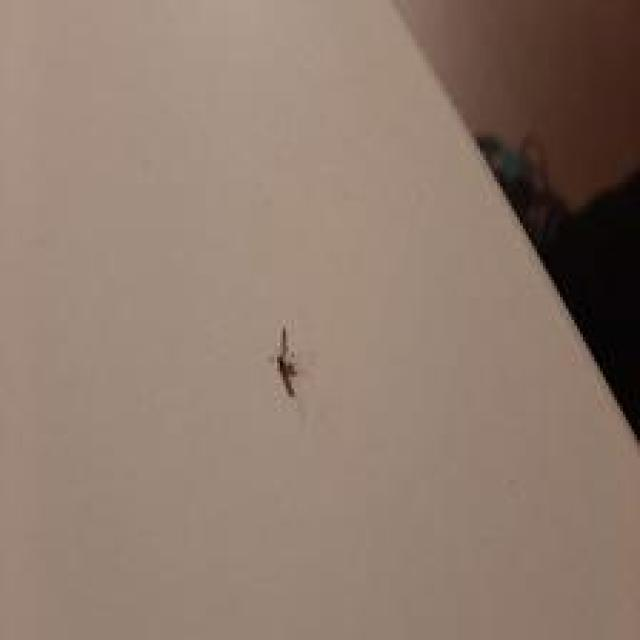Culex: (273, 324, 298, 399)
